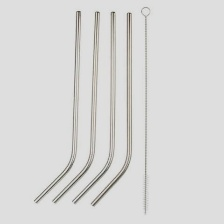drinking_straw: (29, 7, 84, 206)
